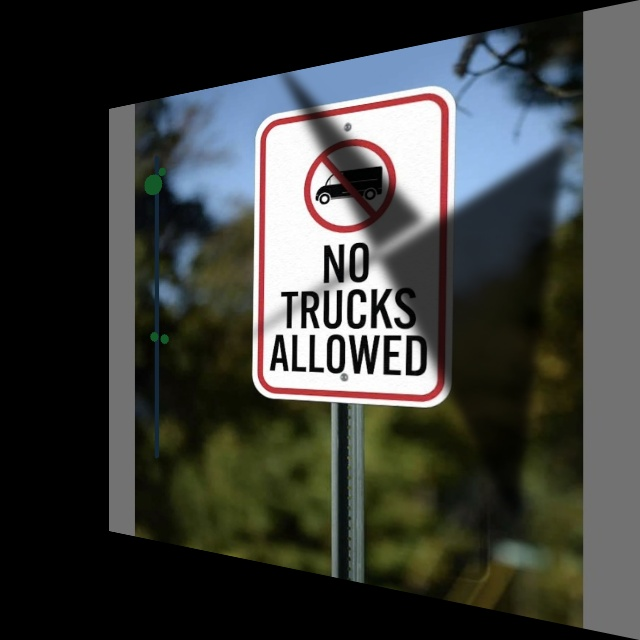Truck_Prohibited: (288, 116, 430, 243)
